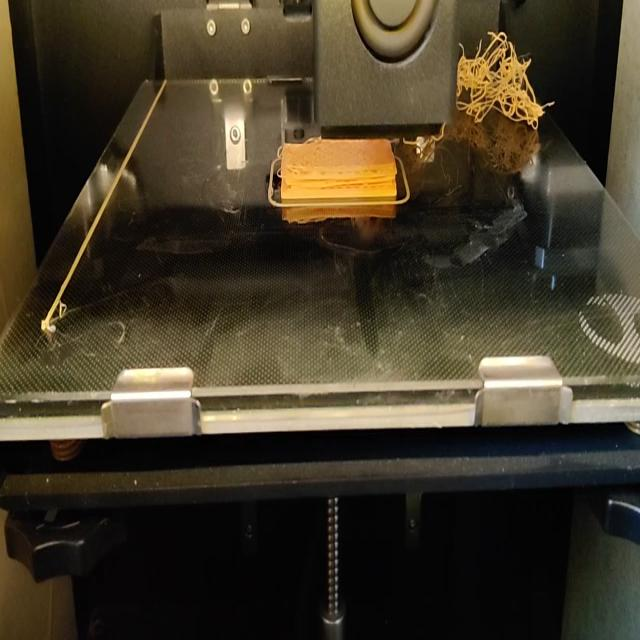spaghetti: (459, 28, 553, 126), (404, 130, 447, 148)
